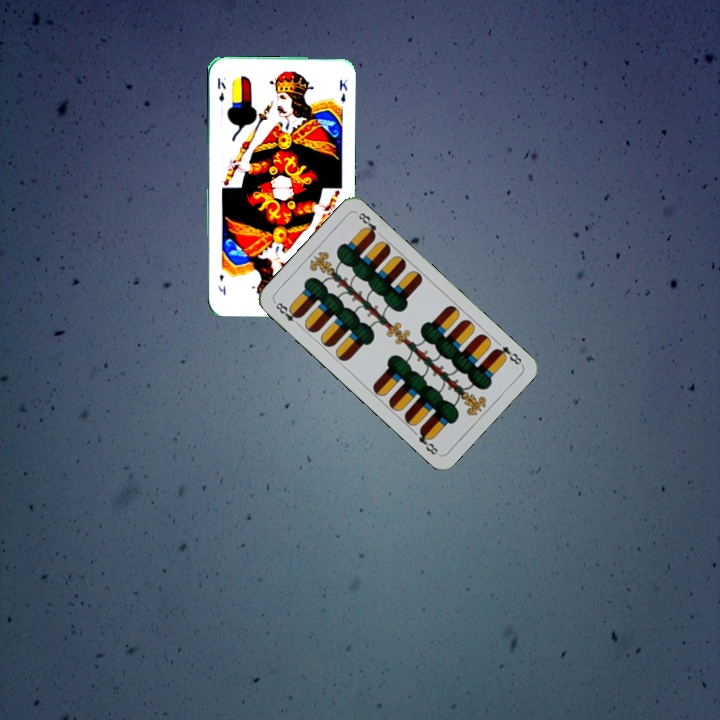E8: (270, 298, 303, 329), (490, 342, 525, 368)
EK: (214, 74, 228, 104)
